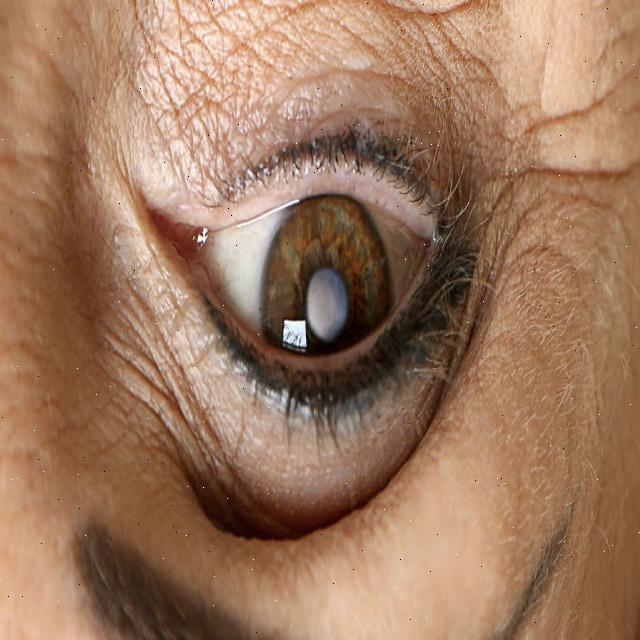Cataract: (258, 194, 389, 449)
